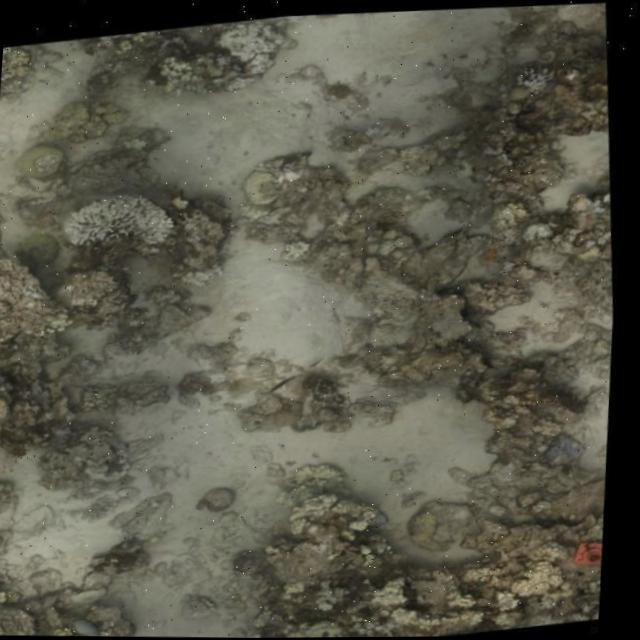Bleached Coral: (59, 179, 185, 251), (222, 10, 306, 74), (506, 57, 562, 108)
